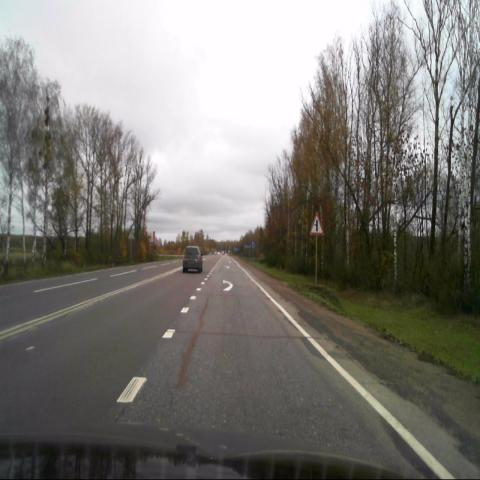2_3_3: (309, 211, 324, 235)
